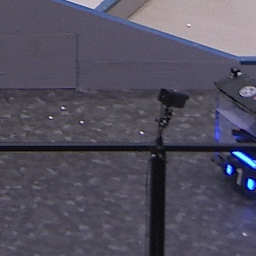Blue: (226, 163, 254, 193)
Robot: (209, 67, 256, 198)
